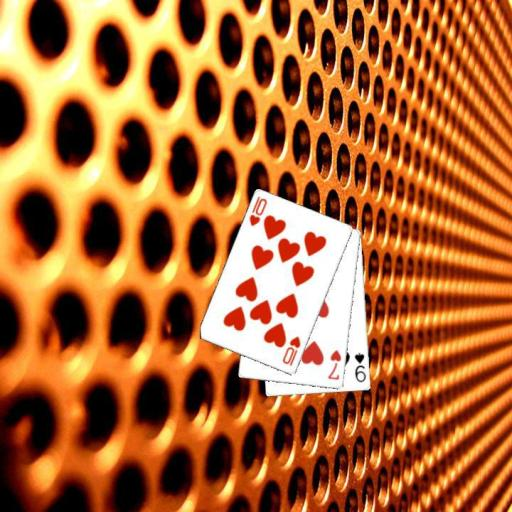10H: (246, 194, 269, 229), (280, 334, 303, 368)
7H: (325, 347, 343, 382)
9S: (352, 350, 368, 384)
